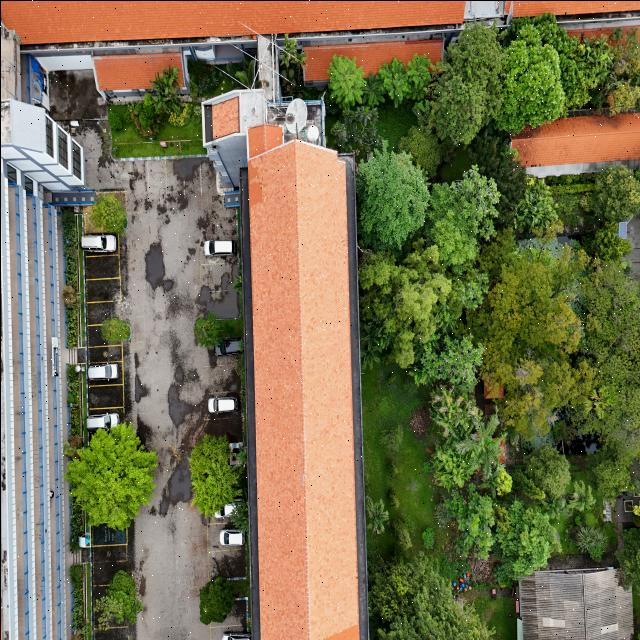Tree: (72, 410, 158, 536), (353, 145, 432, 253), (180, 426, 248, 524), (428, 63, 483, 148), (95, 557, 147, 640), (319, 44, 372, 112), (94, 304, 136, 360), (376, 54, 414, 110)
